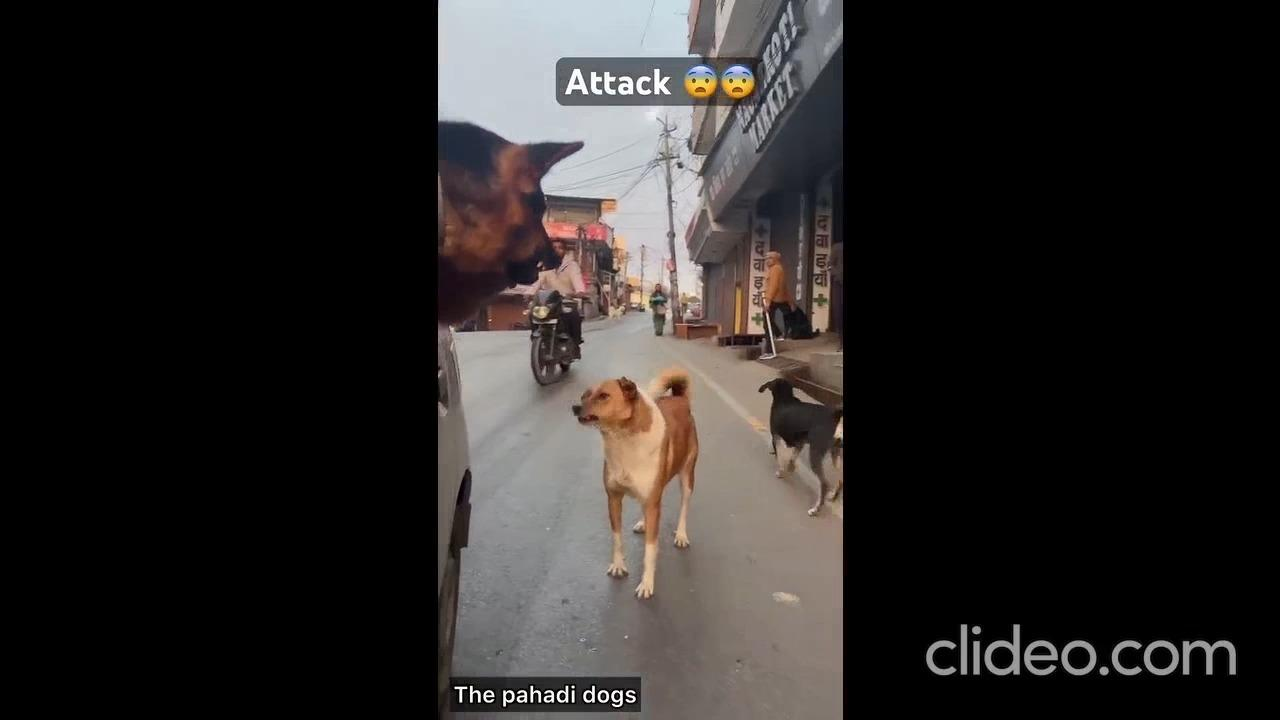dog: (567, 361, 700, 597), (747, 368, 837, 519)
